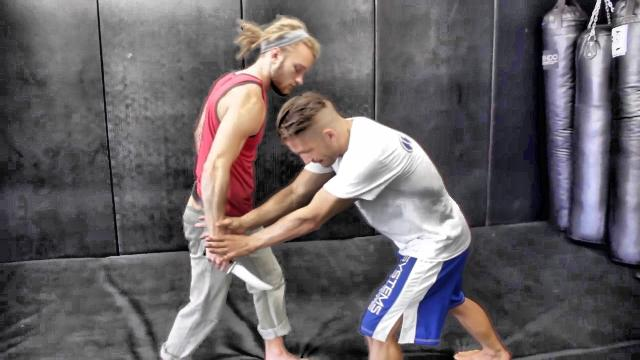knife: (200, 248, 276, 294)
